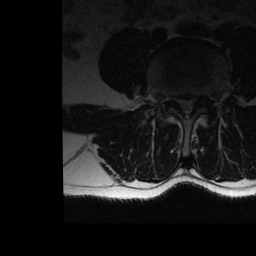CCS_normal: (184, 89, 190, 123)
LFS_severe_stenosis: (198, 88, 206, 108)
LLS_normal: (190, 91, 197, 112)
RFS_severe_stenosis: (169, 89, 177, 108)
RLS_stenosis: (177, 91, 184, 113)
